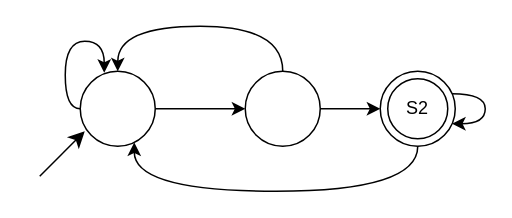
Image size: 512x218. Some labels were removed from this diagram. Here are the shapes that lost their labels. From the top down, the centre of each, then its label:
At point 117,108: "S0".
At point 282,108: "S1".
